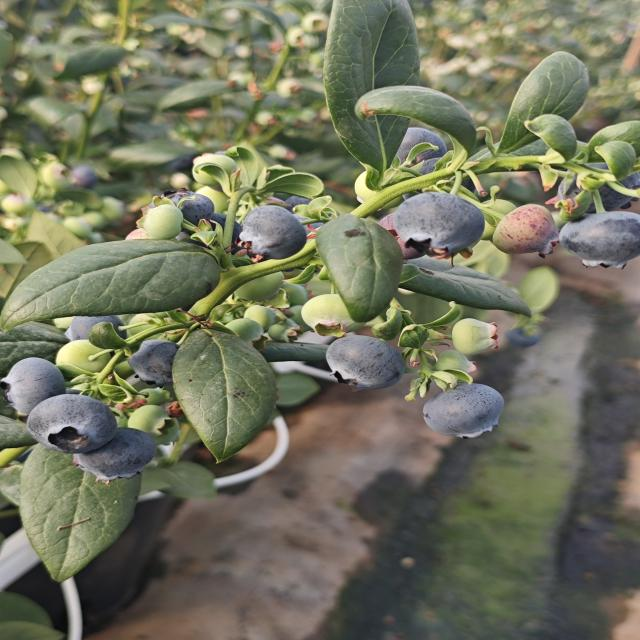ripe: (390, 190, 488, 265), (23, 392, 119, 457), (148, 187, 240, 247), (551, 151, 640, 211), (419, 381, 507, 441), (556, 208, 638, 272), (323, 333, 407, 394), (388, 127, 468, 189), (72, 428, 158, 484), (235, 204, 310, 262), (489, 202, 561, 260), (5, 356, 68, 414), (128, 336, 191, 385), (61, 312, 134, 348), (64, 163, 109, 196)
